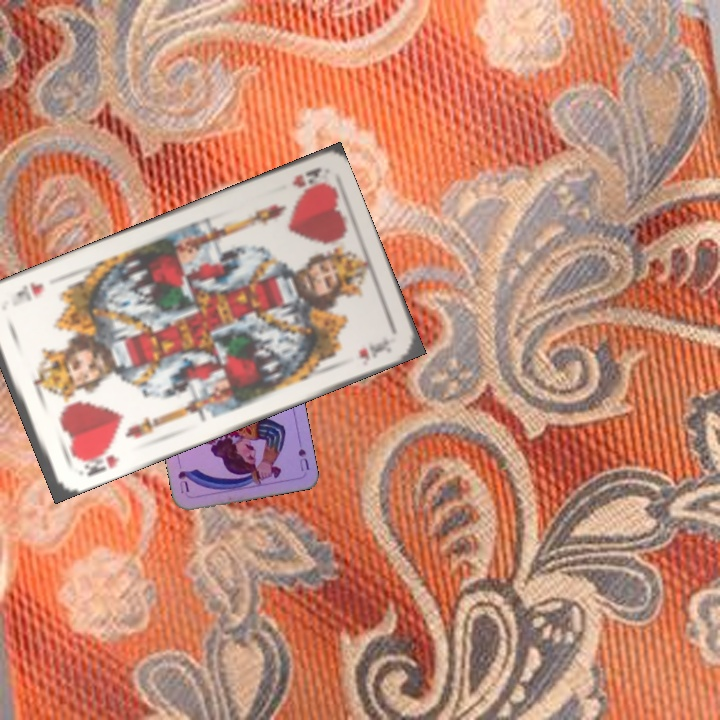HK: (74, 443, 123, 479), (288, 163, 328, 193)
SU: (294, 444, 312, 474)
